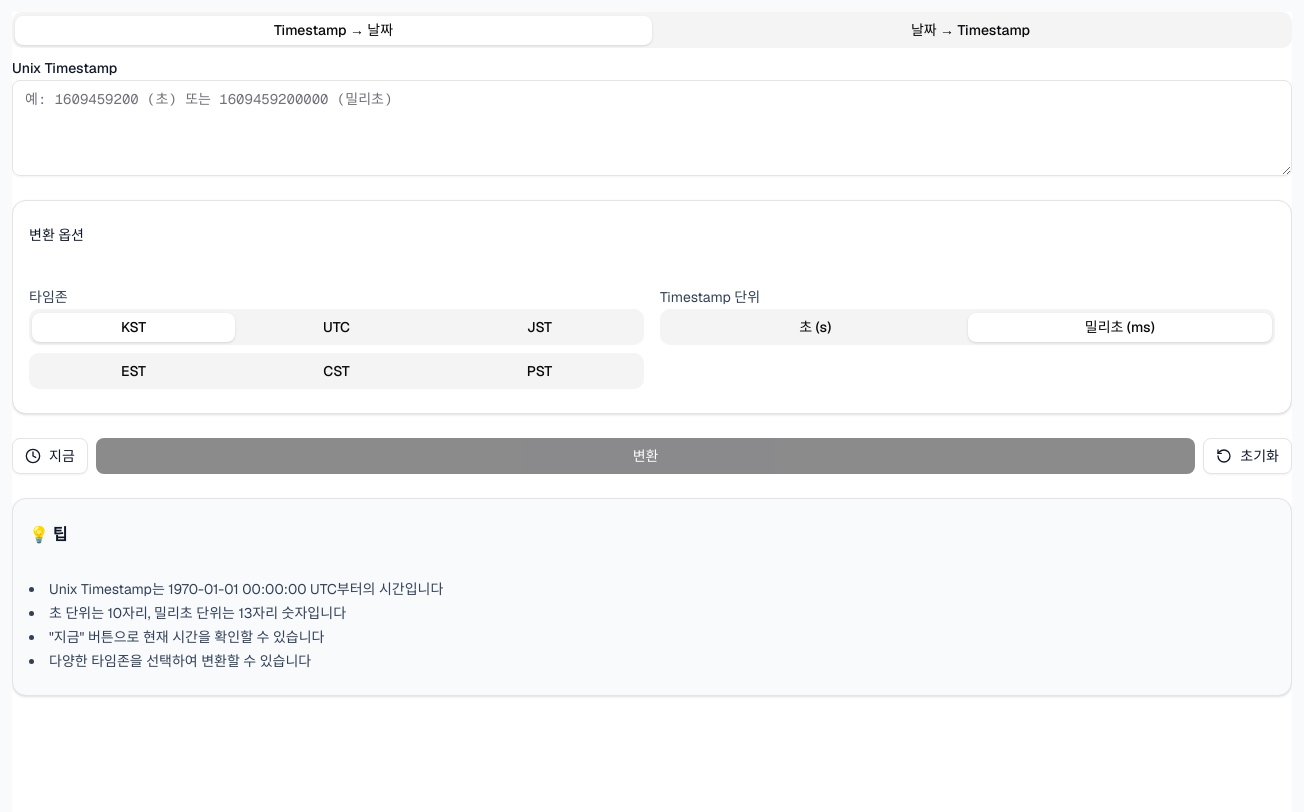
Test: TimestampConverter Component › Timestamp → 날짜 변환 테스트 › Timestamp 입력 후 변환 버튼 클릭
The image size is (1304, 812).
Type "1609459200" into the text box with placeholder "예: 1609459200 (초) 또는 1609459200000 (밀리초)". click: x=652, y=128
box: [12, 80, 1292, 176]
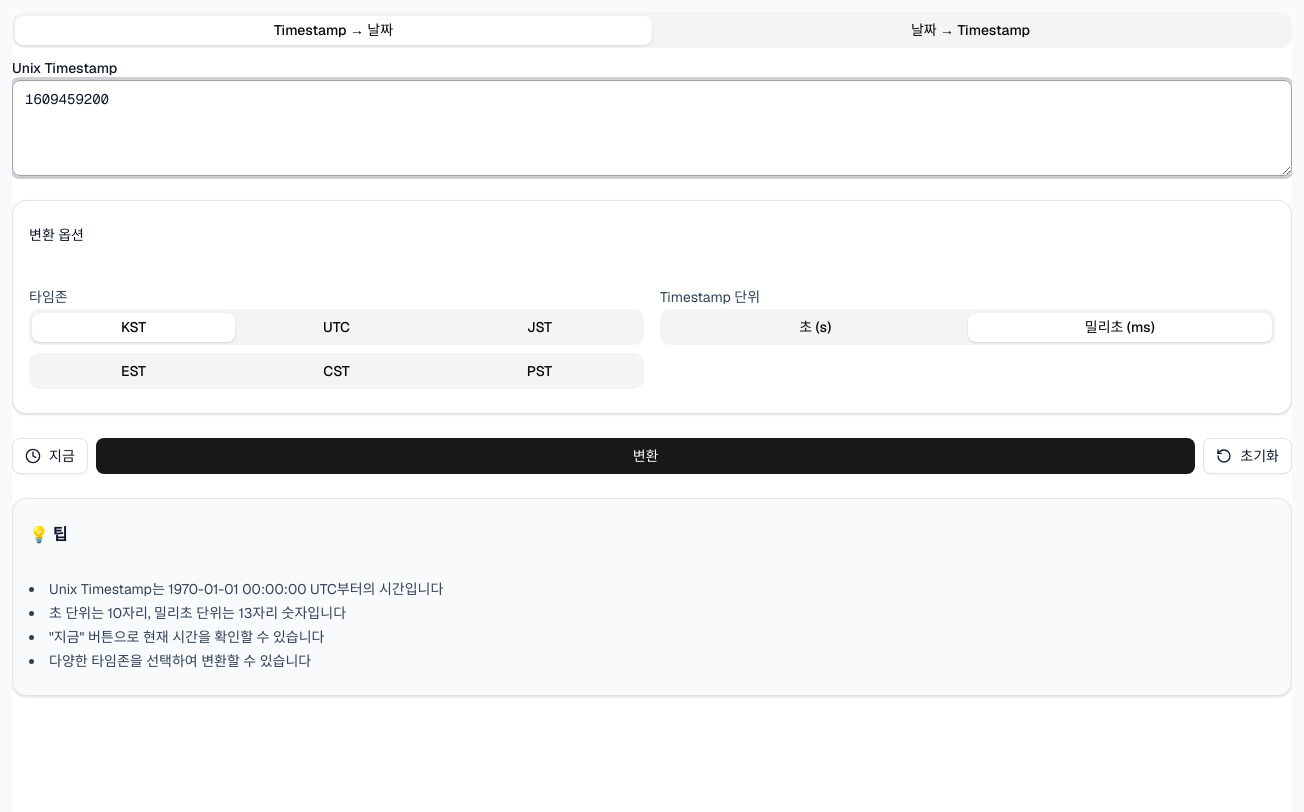
Click the button "변환". click: x=646, y=456
box: [96, 438, 1195, 474]
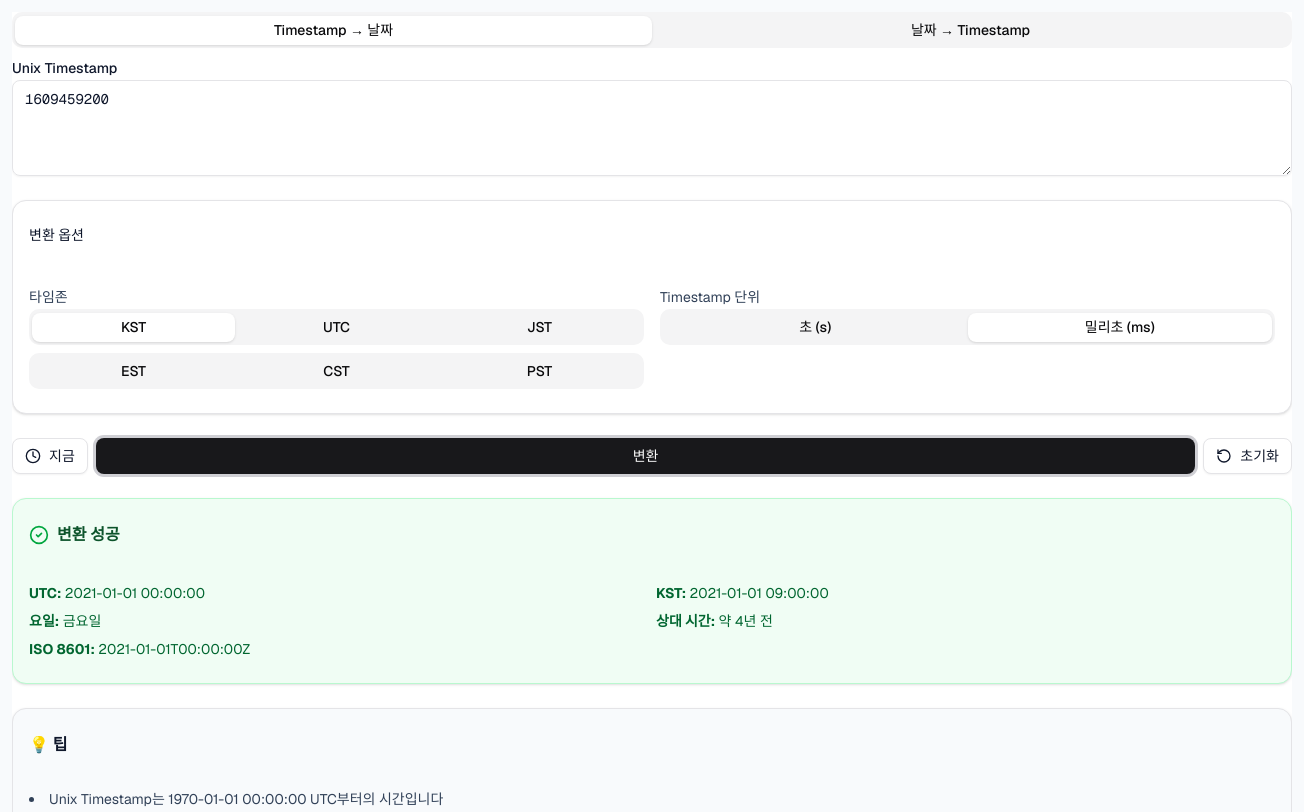
Now the heading "변환 성공" is shown, box [57, 523, 120, 547]
